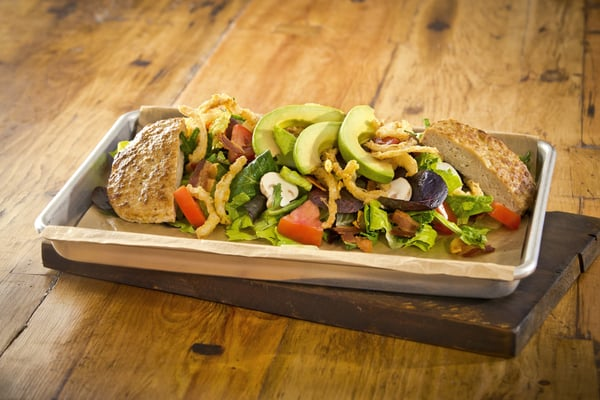curry: (5, 0, 594, 383)
pizza: (278, 203, 324, 245), (173, 184, 208, 226), (491, 202, 521, 229)
